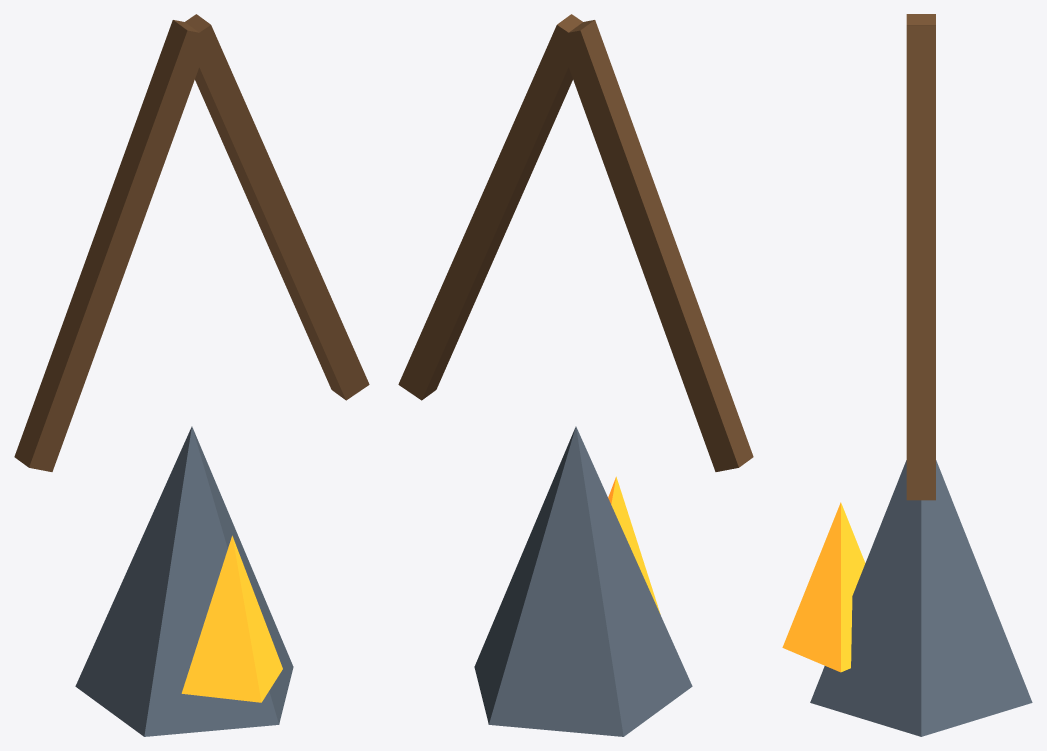
Rendered from keeper_charm.glb.
3 views of the same model, side by side, from view 1: azimuth 30°, elevation 25°; view 2: azimuth 150°, elevation 25°; view 3: azimuth 270°, elevation 25° (orthographic).
Visible parts, largest first — view 1: keeper_charm; view 2: keeper_charm; view 3: keeper_charm.
Part boxes in pixels (<box>): keeper_charm: <box>14,14,369,736</box>; keeper_charm: <box>398,14,753,736</box>; keeper_charm: <box>782,14,1032,736</box>.
Bounding box in the file's own units: 0.0537 × 0.1008 × 0.0342.
